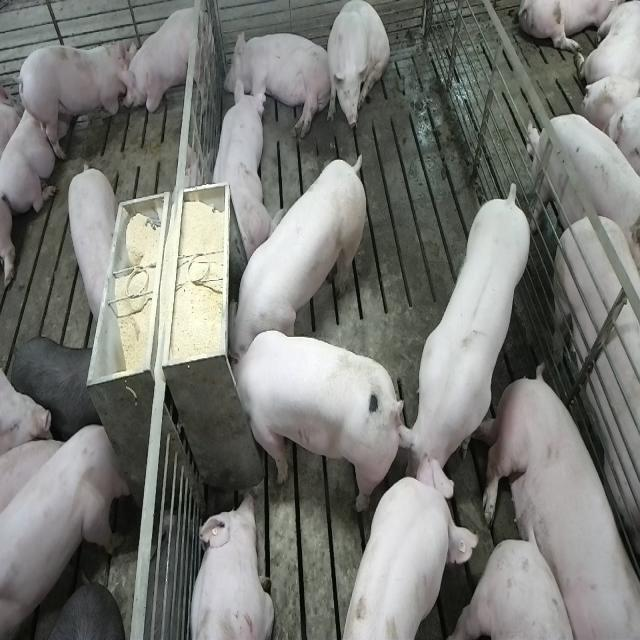Feeding: (221, 330, 397, 514), (229, 147, 371, 360)
Lateral_lying: (482, 366, 637, 640), (222, 27, 332, 139)
Sitting: (326, 3, 390, 137)
Standing: (395, 182, 531, 514), (551, 204, 640, 600), (1, 416, 130, 636), (337, 472, 477, 640), (530, 106, 640, 258), (11, 333, 101, 442), (62, 159, 116, 323)
Sternal_lying: (17, 32, 128, 154), (186, 488, 274, 640), (208, 77, 280, 259), (1, 86, 62, 212)
